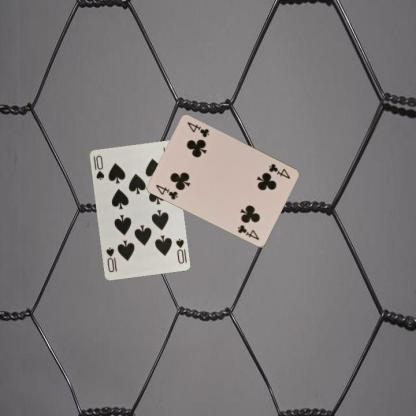10s: (91, 152, 105, 181), (173, 235, 185, 264)
4c: (266, 161, 292, 180), (154, 182, 180, 201)
